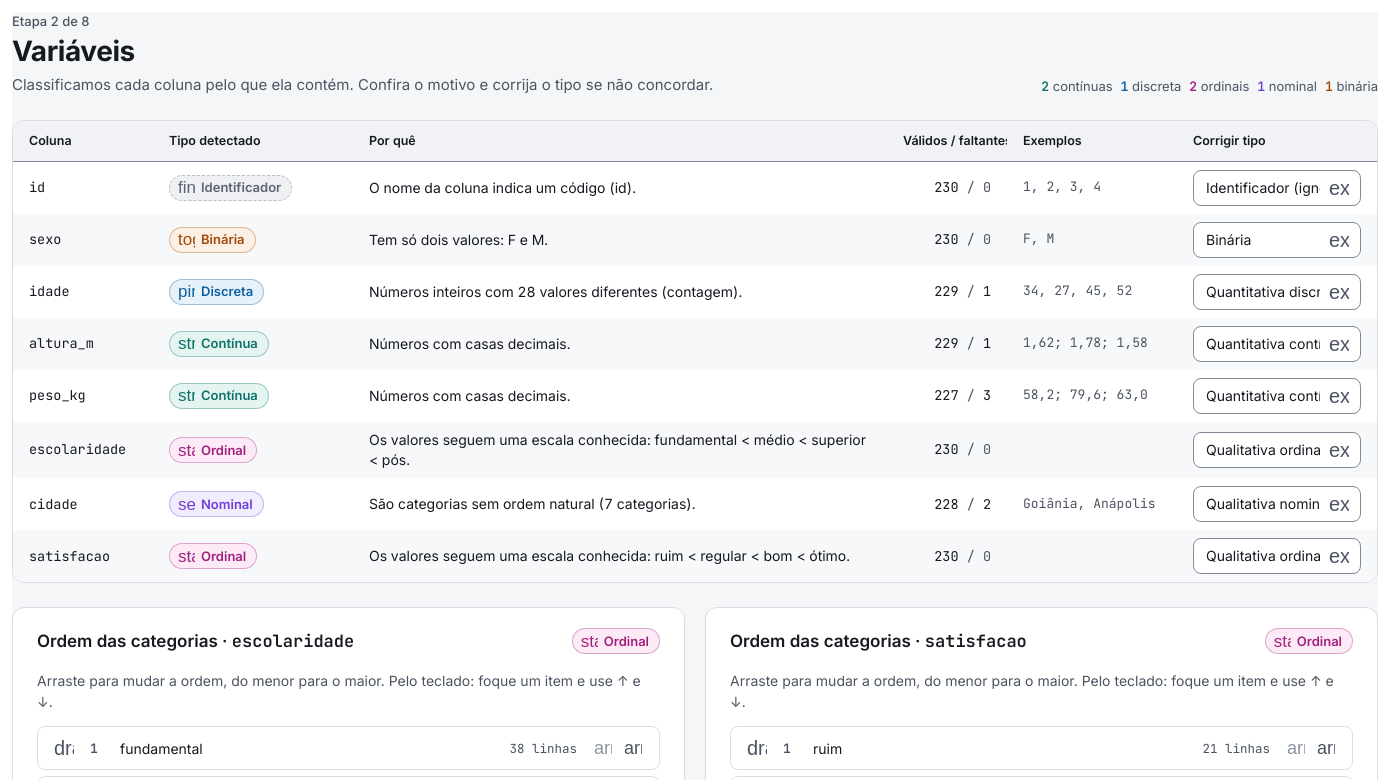
Scenario: PaginaVariaveis › corrigir o tipo manda o PATCH e confirma com toast
Select "Qualitativa ordinal" in the dropdown named "Tipo de cidade" in the row of "cidade" at (1277, 504), box top-left (1193, 486), bottom-right (1361, 522)
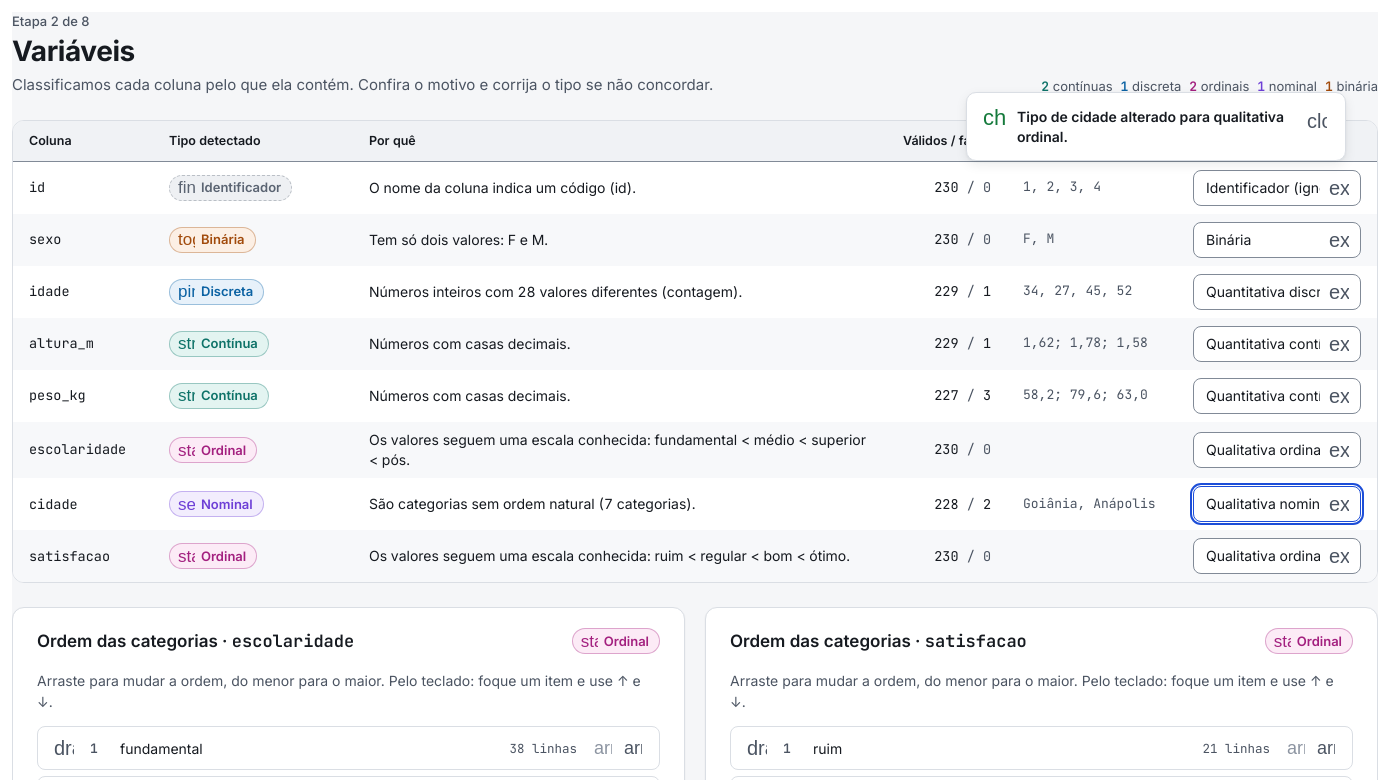
Result: the text "Tipo de cidade alterado para qualitativa ordinal." is shown at top-left (1017, 107), bottom-right (1289, 146)
